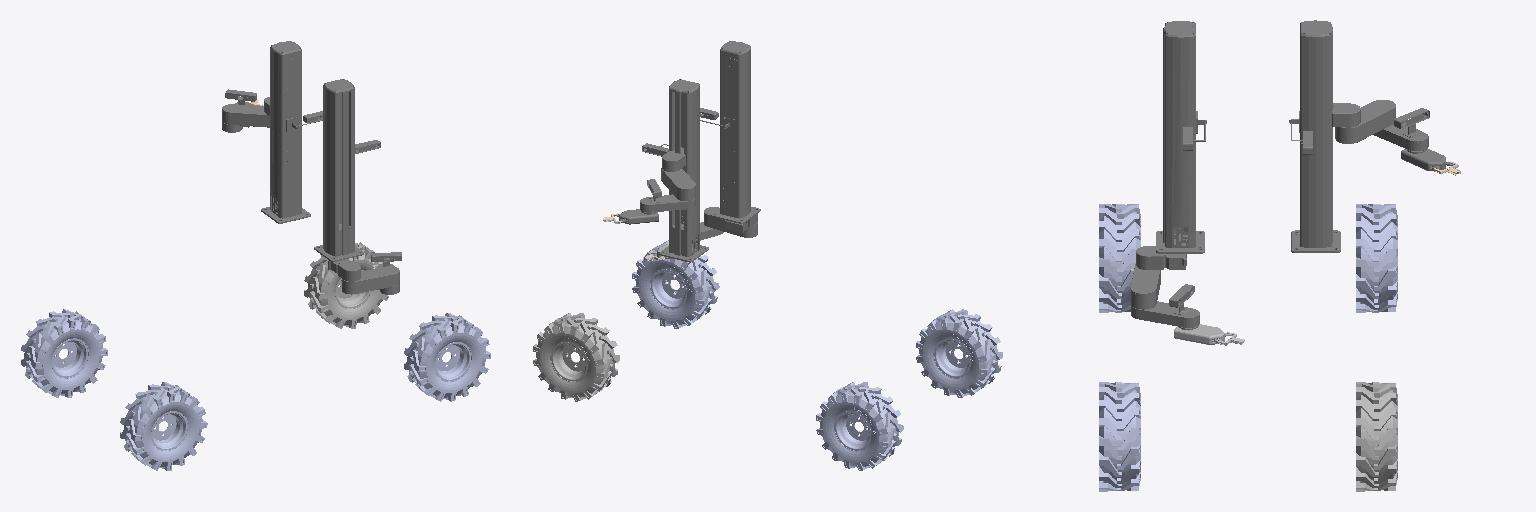
--- Render facts (derived) ---
3 views of the same robot in one strip: view 1: azimuth 30°, elevation 25°; view 2: azimuth 150°, elevation 25°; view 3: azimuth 270°, elevation 25° (orthographic).
Robot: grape_harvester — 19 links, 18 joints (9 revolute, 1 continuous, 6 prismatic, 2 fixed); root link base_link; default pose: joints at zero except 1 at the middle of their limits (r_arm_base_r_arm_link_1 = 0.5).
Links seen in each view (by area): view 1: r_arm_base, l_arm_base, r_wheel_back, r_wheel_front, l_wheel_back, l_wheel_front, r_arm_link_2, l_arm_link_2, r_arm_link_1; view 2: r_arm_base, l_wheel_back, r_wheel_back, l_wheel_front, r_wheel_front, l_arm_base, l_arm_link_3, l_arm_link_2, r_arm_link_2; view 3: r_arm_base, l_arm_base, r_wheel_front, l_wheel_front, l_wheel_back, r_wheel_back, r_arm_link_3, l_arm_link_2, l_arm_link_3, r_arm_link_2, r_arm_link_1, r_arm_gripper_base (+2 smaller).
Link boxes in pixels (x1,y1,x2,y2): r_arm_base: (314, 79, 380, 261); l_arm_base: (261, 41, 322, 223); r_wheel_back: (120, 382, 207, 470); r_wheel_front: (404, 313, 490, 401); l_wheel_back: (21, 309, 107, 397); l_wheel_front: (304, 242, 388, 328); r_arm_link_2: (342, 266, 399, 294); l_arm_link_2: (222, 104, 269, 127); r_arm_link_1: (328, 259, 360, 281); r_arm_base: (700, 41, 760, 223); l_wheel_back: (816, 382, 903, 470); r_wheel_back: (916, 309, 1002, 397); l_wheel_front: (533, 313, 619, 401); r_wheel_front: (632, 240, 719, 328); l_arm_base: (642, 79, 708, 262); l_arm_link_3: (640, 179, 695, 213); l_arm_link_2: (661, 168, 695, 200); r_arm_link_2: (704, 207, 757, 237); r_arm_base: (1156, 21, 1206, 253); l_arm_base: (1289, 20, 1340, 252); r_wheel_front: (1099, 382, 1140, 491); l_wheel_front: (1356, 382, 1397, 491); l_wheel_back: (1356, 204, 1397, 312); r_wheel_back: (1099, 204, 1140, 312); r_arm_link_3: (1131, 284, 1199, 329); l_arm_link_2: (1335, 100, 1395, 143); l_arm_link_3: (1373, 108, 1429, 152); r_arm_link_2: (1131, 264, 1160, 309); r_arm_link_1: (1136, 246, 1186, 269); r_arm_gripper_base: (1174, 309, 1232, 344).
Bounding box of the posed robot: 2.16 × 1.47 × 1.82 m (x, y, z).
Meshes: 19 distinct files referenced, 18 mesh visuals loaded (18 binary STL); not drawn: 1 (reference not matched to a file when rendering).

robot.urdf — grape_harvester:
<?xml version="1.0" encoding="utf-8"?>
<!-- This URDF was automatically created by SolidWorks to URDF Exporter! Originally created by Stephen Brawner ([email redacted]) 
     Commit Version: 1.6.0-1-g15f4949  Build Version: 1.6.7594.29634
     For more information, please see http://wiki.ros.org/sw_urdf_exporter -->
<robot
  name="grape_harvester">
  <link
    name="base_link">
    <inertial>
      <origin
        xyz="0.0967240490462767 -6.50785287935007E-06 0.570595021546874"
        rpy="0 0 0" />
      <mass
        value="732.561419245809" />
      <inertia
        ixx="55.0439847447433"
        ixy="0.00105467372527832"
        ixz="-13.2136142377722"
        iyy="215.138264753584"
        iyz="0.00166435387234711"
        izz="233.631575009062" />
    </inertial>
    <visual>
      <origin
        xyz="0 0 0"
        rpy="0 0 0" />
      <geometry>
        <mesh
          filename="package://grape_harvester/meshes/base_link.STL" />
      </geometry>
      <material
        name="">
        <color
          rgba="0.847058823529412 0.847058823529412 0.847058823529412 1" />
      </material>
    </visual>
    <collision>
      <origin
        xyz="0 0 0"
        rpy="0 0 0" />
      <geometry>
        <mesh
          filename="package://grape_harvester/meshes/base_link.STL" />
      </geometry>
    </collision>
  </link>
  <link
    name="l_wheel_front">
    <inertial>
      <origin
        xyz="-2.55500666828112E-05 -0.00431559968288031 2.73318019216873E-05"
        rpy="0 0 0" />
      <mass
        value="15.911327710551" />
      <inertia
        ixx="0.256653495251073"
        ixy="3.31407246755762E-05"
        ixz="3.06050778192681E-05"
        iyy="0.446525377478014"
        iyz="-3.54358257007552E-05"
        izz="0.256649431563068" />
    </inertial>
    <visual>
      <origin
        xyz="0 0 0"
        rpy="0 0 0" />
      <geometry>
        <mesh
          filename="package://grape_harvester/meshes/l_wheel_front.STL" />
      </geometry>
      <material
        name="">
        <color
          rgba="0.764705882352941 0.764705882352941 0.764705882352941 1" />
      </material>
    </visual>
    <collision>
      <origin
        xyz="0 0 0"
        rpy="0 0 0" />
      <geometry>
        <mesh
          filename="package://grape_harvester/meshes/l_wheel_front.STL" />
      </geometry>
    </collision>
  </link>
  <joint
    name="base_l_wheel_front"
    type="continuous">
    <origin
      xyz="0.860000000000001 0.52594220962433 0.2225"
      rpy="0 0 0" />
    <parent
      link="base_link" />
    <child
      link="l_wheel_front" />
    <axis
      xyz="0 -1 0" />
    <limit
      lower="-1000000"
      upper="1000000"
      effort="500000"
      velocity="1000000" />
  </joint>
  <link
    name="r_wheel_front">
    <inertial>
      <origin
        xyz="-2.55500666829223E-05 0.00262660994145059 2.73318019217497E-05"
        rpy="0 0 0" />
      <mass
        value="15.9113277105509" />
      <inertia
        ixx="0.256653495251073"
        ixy="3.31407246756976E-05"
        ixz="3.06050778195966E-05"
        iyy="0.446525377478014"
        iyz="-3.5435825700834E-05"
        izz="0.256649431563068" />
    </inertial>
    <visual>
      <origin
        xyz="0 0 0"
        rpy="0 0 0" />
      <geometry>
        <mesh
          filename="package://grape_harvester/meshes/r_wheel_front.STL" />
      </geometry>
      <material
        name="">
        <color
          rgba="0.792156862745098 0.819607843137255 0.933333333333333 1" />
      </material>
    </visual>
    <collision>
      <origin
        xyz="0 0 0"
        rpy="0 0 0" />
      <geometry>
        <mesh
          filename="package://grape_harvester/meshes/r_wheel_front.STL" />
      </geometry>
    </collision>
  </link>
  <joint
    name="base_r_wheel_front"
    type="revolute">
    <origin
      xyz="0.860000000000001 -0.524999999999999 0.2225"
      rpy="0 0 0" />
    <parent
      link="base_link" />
    <child
      link="r_wheel_front" />
    <axis
      xyz="0 1 0" />
    <limit
      lower="-1000000"
      upper="1000000"
      effort="50000"
      velocity="50000" />
  </joint>
  <link
    name="l_wheel_back">
    <inertial>
      <origin
        xyz="-2.55500666831443E-05 -0.00337339005854942 2.73318019219093E-05"
        rpy="0 0 0" />
      <mass
        value="15.911327710551" />
      <inertia
        ixx="0.256653495251073"
        ixy="3.31407246756729E-05"
        ixz="3.06050778194416E-05"
        iyy="0.446525377478015"
        iyz="-3.54358257008432E-05"
        izz="0.256649431563068" />
    </inertial>
    <visual>
      <origin
        xyz="0 0 0"
        rpy="0 0 0" />
      <geometry>
        <mesh
          filename="package://grape_harvester/meshes/l_wheel_back.STL" />
      </geometry>
      <material
        name="">
        <color
          rgba="0.792156862745098 0.819607843137255 0.933333333333333 1" />
      </material>
    </visual>
    <collision>
      <origin
        xyz="0 0 0"
        rpy="0 0 0" />
      <geometry>
        <mesh
          filename="package://grape_harvester/meshes/l_wheel_back.STL" />
      </geometry>
    </collision>
  </link>
  <joint
    name="base_l_wheel_back"
    type="revolute">
    <origin
      xyz="-0.86 0.525 0.2225"
      rpy="0 0 0" />
    <parent
      link="base_link" />
    <child
      link="l_wheel_back" />
    <axis
      xyz="0 -1 0" />
    <limit
      lower="-1000000"
      upper="1000000"
      effort="50000"
      velocity="50000" />
  </joint>
  <link
    name="r_wheel_back">
    <inertial>
      <origin
        xyz="-2.55500666828112E-05 0.0026266099414507 2.73318019219232E-05"
        rpy="0 0 0" />
      <mass
        value="15.911327710551" />
      <inertia
        ixx="0.256653495251073"
        ixy="3.31407246756884E-05"
        ixz="3.06050778196904E-05"
        iyy="0.446525377478014"
        iyz="-3.54358257007756E-05"
        izz="0.256649431563068" />
    </inertial>
    <visual>
      <origin
        xyz="0 0 0"
        rpy="0 0 0" />
      <geometry>
        <mesh
          filename="package://grape_harvester/meshes/r_wheel_back.STL" />
      </geometry>
      <material
        name="">
        <color
          rgba="0.792156862745098 0.819607843137255 0.933333333333333 1" />
      </material>
    </visual>
    <collision>
      <origin
        xyz="0 0 0"
        rpy="0 0 0" />
      <geometry>
        <mesh
          filename="package://grape_harvester/meshes/r_wheel_back.STL" />
      </geometry>
    </collision>
  </link>
  <joint
    name="base_r_wheel_back"
    type="revolute">
    <origin
      xyz="-0.86 -0.524999999999999 0.2225"
      rpy="0 0 0" />
    <parent
      link="base_link" />
    <child
      link="r_wheel_back" />
    <axis
      xyz="0 1 0" />
    <limit
      lower="-1000000"
      upper="1000000"
      effort="50000"
      velocity="50000" />
  </joint>
  <link
    name="l_arm_base">
    <inertial>
      <origin
        xyz="0.0024968 -0.015377 0.42921"
        rpy="0 0 0" />
      <mass
        value="3.3953" />
      <inertia
        ixx="0.20912"
        ixy="-7.5254E-05"
        ixz="0.0010211"
        iyy="0.2113"
        iyz="-0.00038185"
        izz="0.015276" />
    </inertial>
    <visual>
      <origin
        xyz="0 0 0"
        rpy="0 0 0" />
      <geometry>
        <mesh
          filename="package://grape_harvester/meshes/l_arm_base.STL" />
      </geometry>
      <material
        name="">
        <color
          rgba="0.56471 0.56471 0.56471 1" />
      </material>
    </visual>
    <collision>
      <origin
        xyz="0 0 0"
        rpy="0 0 0" />
      <geometry>
        <mesh
          filename="package://grape_harvester/meshes/l_arm_base.STL" />
      </geometry>
    </collision>
  </link>
  <joint
    name="base_l_arm_base"
    type="fixed">
    <origin
      xyz="0.345503212092889 0.275067184842277 0.8625"
      rpy="0 0 0" />
    <parent
      link="base_link" />
    <child
      link="l_arm_base" />
    <axis
      xyz="0 0 0" />
  </joint>
  <link
    name="l_arm_link_1">
    <inertial>
      <origin
        xyz="0.000125636870732804 0.0804188199429272 -0.0372240719211019"
        rpy="0 0 0" />
      <mass
        value="0.993769615600529" />
      <inertia
        ixx="0.0034290734895918"
        ixy="1.44752336404463E-05"
        ixz="2.09107970542603E-06"
        iyy="0.000950241498545379"
        iyz="7.33029796466367E-05"
        izz="0.0039252957485201" />
    </inertial>
    <visual>
      <origin
        xyz="0 0 0"
        rpy="0 0 0" />
      <geometry>
        <mesh
          filename="package://grape_harvester/meshes/l_arm_link_1.STL" />
      </geometry>
      <material
        name="">
        <color
          rgba="0.564705882352941 0.564705882352941 0.564705882352941 1" />
      </material>
    </visual>
    <collision>
      <origin
        xyz="0 0 0"
        rpy="0 0 0" />
      <geometry>
        <mesh
          filename="package://grape_harvester/meshes/l_arm_link_1.STL" />
      </geometry>
    </collision>
  </link>
  <joint
    name="l_arm_base_l_arm_link1"
    type="prismatic">
    <origin
      xyz="0 0 0.593759108516829"
      rpy="0 0 0" />
    <parent
      link="l_arm_base" />
    <child
      link="l_arm_link_1" />
    <axis
      xyz="0 0 -1" />
    <limit
      lower="-0.2"
      upper="0.2"
      effort="300"
      velocity="3" />
  </joint>
  <link
    name="l_arm_link_2">
    <inertial>
      <origin
        xyz="-0.0854570113219302 0.0709105321317886 -0.0984483167347361"
        rpy="0 0 0" />
      <mass
        value="2.16979338726156" />
      <inertia
        ixx="0.00866799275524474"
        ixy="0.00727661797303508"
        ixz="-7.28447678409945E-05"
        iyy="0.0113873692649047"
        iyz="6.03025196983541E-05"
        izz="0.0186444325786857" />
    </inertial>
    <visual>
      <origin
        xyz="0 0 0"
        rpy="0 0 0" />
      <geometry>
        <mesh
          filename="package://grape_harvester/meshes/l_arm_link_2.STL" />
      </geometry>
      <material
        name="">
        <color
          rgba="0.564705882352941 0.564705882352941 0.564705882352941 1" />
      </material>
    </visual>
    <collision>
      <origin
        xyz="0 0 0"
        rpy="0 0 0" />
      <geometry>
        <mesh
          filename="package://grape_harvester/meshes/l_arm_link_2.STL" />
      </geometry>
    </collision>
  </link>
  <joint
    name="l_arm_link_1_l_arm_link_2"
    type="revolute">
    <origin
      xyz="-2.38538024483481E-05 0.131932815157645 -0.00200000000005285"
      rpy="0 0 0" />
    <parent
      link="l_arm_link_1" />
    <child
      link="l_arm_link_2" />
    <axis
      xyz="0 0 1" />
    <limit
      lower="-3.14"
      upper="3.14"
      effort="300"
      velocity="3" />
  </joint>
  <link
    name="l_arm_link_3">
    <inertial>
      <origin
        xyz="0.0699396065905296 -0.0737302141498409 -0.0926276756075906"
        rpy="0 0 0" />
      <mass
        value="1.46789098760177" />
      <inertia
        ixx="0.00546308340369262"
        ixy="0.00380182327080884"
        ixz="1.85741775412588E-05"
        iyy="0.00506145717588313"
        iyz="-1.95812221911357E-05"
        izz="0.0100016298513614" />
    </inertial>
    <visual>
      <origin
        xyz="0 0 0"
        rpy="0 0 0" />
      <geometry>
        <mesh
          filename="package://grape_harvester/meshes/l_arm_link_3.STL" />
      </geometry>
      <material
        name="">
        <color
          rgba="0.564705882352941 0.564705882352941 0.564705882352941 1" />
      </material>
    </visual>
    <collision>
      <origin
        xyz="0 0 0"
        rpy="0 0 0" />
      <geometry>
        <mesh
          filename="package://grape_harvester/meshes/l_arm_link_3.STL" />
      </geometry>
    </collision>
  </link>
  <joint
    name="l_arm_link_2_l_arm_link_3"
    type="revolute">
    <origin
      xyz="-0.16927333898573 0.140522370848582 -0.0629999999999309"
      rpy="0 0 1.5707963267949" />
    <parent
      link="l_arm_link_2" />
    <child
      link="l_arm_link_3" />
    <axis
      xyz="0 0 1" />
    <limit
      lower="-3.14"
      upper="3.14"
      effort="300"
      velocity="3" />
  </joint>
  <link
    name="gripper_base">
    <inertial>
      <origin
        xyz="0.0417656890379304 -0.0440296352379506 -0.0818516657835077"
        rpy="0 0 0" />
      <mass
        value="0.109749472914355" />
      <inertia
        ixx="0.000158320167909366"
        ixy="4.98951547405743E-05"
        ixz="4.08521109394338E-06"
        iyy="0.0001530507624686"
        iyz="-4.3048628224785E-06"
        izz="0.000264761402018064" />
    </inertial>
    <visual>
      <origin
        xyz="0 0 0"
        rpy="0 0 0" />
      <geometry>
        <mesh
          filename="package://grape_harvester/meshes/gripper_base.STL" />
      </geometry>
      <material
        name="">
        <color
          rgba="0.564705882352941 0.564705882352941 0.564705882352941 1" />
      </material>
    </visual>
    <collision>
      <origin
        xyz="0 0 0"
        rpy="0 0 0" />
      <geometry>
        <mesh
          filename="package://grape_harvester/meshes/gripper_base.STL" />
      </geometry>
    </collision>
  </link>
  <joint
    name="l_arm_link3_gripper_base"
    type="revolute">
    <origin
      xyz="0.137641878611459 -0.145102423315937 -0.0720000000000072"
      rpy="0 0 0" />
    <parent
      link="l_arm_link_3" />
    <child
      link="gripper_base" />
    <axis
      xyz="0 0 1" />
    <limit
      lower="-3.14"
      upper="3.14"
      effort="300"
      velocity="3" />
  </joint>
  <link
    name="r_finger_l_gripper">
    <inertial>
      <origin
        xyz="-0.0253969129652248 0.0241461215019181 0.000850862451540646"
        rpy="0 0 0" />
      <mass
        value="0.0110592335472186" />
      <inertia
        ixx="4.37396734706745E-06"
        ixy="2.16963471246923E-06"
        ixz="4.42617514527407E-10"
        iyy="2.62421421445249E-06"
        iyz="9.63789542828289E-15"
        izz="6.67238241923964E-06" />
    </inertial>
    <visual>
      <origin
        xyz="0 0 0"
        rpy="0 0 0" />
      <geometry>
        <mesh
          filename="package://grape_harvester/meshes/r_finger_l_gripper.STL" />
      </geometry>
      <material
        name="">
        <color
          rgba="1 0.898039215686275 0.8 1" />
      </material>
    </visual>
    <collision>
      <origin
        xyz="0 0 0"
        rpy="0 0 0" />
      <geometry>
        <mesh
          filename="package://grape_harvester/meshes/r_finger_l_gripper.STL" />
      </geometry>
    </collision>
  </link>
  <joint
    name="l_gripper_base_r_finger"
    type="prismatic">
    <origin
      xyz="0.151543661927759 -0.159757719126552 -0.0833093207226201"
      rpy="0 0 0.759018095073969" />
    <parent
      link="gripper_base" />
    <child
      link="r_finger_l_gripper" />
    <axis
      xyz="-1 0 0" />
    <limit
      lower="-0.1"
      upper="0.1"
      effort="300"
      velocity="3" />
  </joint>
  <link
    name="l_finger_l_gripper">
    <inertial>
      <origin
        xyz="0.0201917326469194 0.0171855945703733 0.000409320456968953"
        rpy="0 0 0" />
      <mass
        value="0.0155284591982907" />
      <inertia
        ixx="5.33107508010463E-06"
        ixy="-2.1696347035305E-06"
        ixz="-5.28113216851625E-14"
        iyy="2.72756181550335E-06"
        iyz="1.13840520310012E-12"
        izz="7.66157734339293E-06" />
    </inertial>
    <visual>
      <origin
        xyz="0 0 0"
        rpy="0 0 0" />
      <geometry>
        <mesh
          filename="package://grape_harvester/meshes/l_finger_l_gripper.STL" />
      </geometry>
      <material
        name="">
        <color
          rgba="0.847058823529412 0.847058823529412 0.847058823529412 1" />
      </material>
    </visual>
    <collision>
      <origin
        xyz="0 0 0"
        rpy="0 0 0" />
      <geometry>
        <mesh
          filename="package://grape_harvester/meshes/l_finger_l_gripper.STL" />
      </geometry>
    </collision>
  </link>
  <joint
    name="l_gripper_base_l_finger"
    type="prismatic">
    <origin
      xyz="0.151543661927759 -0.159757719126552 -0.0833093207226201"
      rpy="0 0 0.759018095073969" />
    <parent
      link="gripper_base" />
    <child
      link="l_finger_l_gripper" />
    <axis
      xyz="-1 0 0" />
    <limit
      lower="-0.1"
      upper="0.1"
      effort="300"
      velocity="3" />
  </joint>
  <link
    name="r_arm_base">
    <inertial>
      <origin
        xyz="0.0016045 0.015369 0.42939"
        rpy="0 0 0" />
      <mass
        value="3.3946" />
      <inertia
        ixx="0.20912"
        ixy="-2.7958E-05"
        ixz="-0.0010211"
        iyy="0.2113"
        iyz="0.00038776"
        izz="0.015276" />
    </inertial>
    <visual>
      <origin
        xyz="0 0 0"
        rpy="0 0 0" />
      <geometry>
        <mesh
          filename="package://grape_harvester/meshes/r_arm_base.STL" />
      </geometry>
      <material
        name="">
        <color
          rgba="0.56471 0.56471 0.56471 1" />
      </material>
    </visual>
    <collision>
      <origin
        xyz="0 0 0"
        rpy="0 0 0" />
      <geometry>
        <mesh
          filename="package://grape_harvester/meshes/r_arm_base.STL" />
      </geometry>
    </collision>
  </link>
  <joint
    name="base_r_arm_base"
    type="fixed">
    <origin
      xyz="0.349976146197634 -0.275067184842277 0.8625"
      rpy="0 0 0" />
    <parent
      link="base_link" />
    <child
      link="r_arm_base" />
    <axis
      xyz="0 0 0" />
  </joint>
  <link
    name="r_arm_link_1">
    <inertial>
      <origin
        xyz="-0.000125636870781154 -0.0804188199429695 -0.0372240719211019"
        rpy="0 0 0" />
      <mass
        value="0.99376961560053" />
      <inertia
        ixx="0.00342907348959179"
        ixy="1.44752336404472E-05"
        ixz="-2.09107970542582E-06"
        iyy="0.000950241498545383"
        iyz="-7.33029796466401E-05"
        izz="0.00392529574852009" />
    </inertial>
    <visual>
      <origin
        xyz="0 0 0"
        rpy="0 0 0" />
      <geometry>
        <mesh
          filename="package://grape_harvester/meshes/r_arm_link_1.STL" />
      </geometry>
      <material
        name="">
        <color
          rgba="0.564705882352941 0.564705882352941 0.564705882352941 1" />
      </material>
    </visual>
    <collision>
      <origin
        xyz="0 0 0"
        rpy="0 0 0" />
      <geometry>
        <mesh
          filename="package://grape_harvester/meshes/r_arm_link_1.STL" />
      </geometry>
    </collision>
  </link>
  <joint
    name="r_arm_base_r_arm_link_1"
    type="prismatic">
    <origin
      xyz="0 0 0.455999999999899"
      rpy="0 0 0" />
    <parent
      link="r_arm_base" />
    <child
      link="r_arm_link_1" />
    <axis
      xyz="0 0 -1" />
    <limit
      lower="0.3"
      upper="0.7"
      effort="300"
      velocity="3" />
  </joint>
  <link
    name="r_arm_link_2">
    <inertial>
      <origin
        xyz="0.110638958296988 -0.00949870182453177 -0.0984483168531514"
        rpy="0 0 0" />
      <mass
        value="2.16979338725361" />
      <inertia
        ixx="0.00273445011587975"
        ixy="0.00126755844621284"
        ixz="9.42288684763653E-05"
        iyy="0.0173209120460984"
        iyz="-7.97968333694519E-06"
        izz="0.0186444327205125" />
    </inertial>
    <visual>
      <origin
        xyz="0 0 0"
        rpy="0 0 0" />
      <geometry>
        <mesh
          filename="package://grape_harvester/meshes/r_arm_link_2.STL" />
      </geometry>
      <material
        name="">
        <color
          rgba="0.564705882352941 0.564705882352941 0.564705882352941 1" />
      </material>
    </visual>
    <collision>
      <origin
        xyz="0 0 0"
        rpy="0 0 0" />
      <geometry>
        <mesh
          filename="package://grape_harvester/meshes/r_arm_link_2.STL" />
      </geometry>
    </collision>
  </link>
  <joint
    name="r_arm_link_1_r_arm_link_2"
    type="revolute">
    <origin
      xyz="2.38538023998869E-05 -0.131932815157687 -0.00200000000005285"
      rpy="0 0 0" />
    <parent
      link="r_arm_link_1" />
    <child
      link="r_arm_link_2" />
    <axis
      xyz="0 0 1" />
    <limit
      lower="-3.14"
      upper="3.14"
      effort="300"
      velocity="3" />
  </joint>
  <link
    name="r_arm_link_3">
    <inertial>
      <origin
        xyz="0.0431771728754073 0.0947109741374368 -0.0895746798248389"
        rpy="0 0 0" />
      <mass
        value="1.51944277714983" />
      <inertia
        ixx="0.00779168094949869"
        ixy="-0.00282823353959421"
        ixz="1.04013867884703E-05"
        iyy="0.00287734902626481"
        iyz="2.5071131850438E-05"
        izz="0.0101312773842739" />
    </inertial>
    <visual>
      <origin
        xyz="0 0 0"
        rpy="0 0 0" />
      <geometry>
        <mesh
          filename="package://grape_harvester/meshes/r_arm_link_3.STL" />
      </geometry>
      <material
        name="">
        <color
          rgba="0.564705882352941 0.564705882352941 0.564705882352941 1" />
      </material>
    </visual>
    <collision>
      <origin
        xyz="0 0 0"
        rpy="0 0 0" />
      <geometry>
        <mesh
          filename="package://grape_harvester/meshes/r_arm_link_3.STL" />
      </geometry>
    </collision>
  </link>
  <joint
    name="r_arm_link_2_r_arm_link_3"
    type="revolute">
    <origin
      xyz="0.219189537435978 -0.0188665492047488 -0.0629999999999324"
      rpy="0 0 0" />
    <parent
      link="r_arm_link_2" />
    <child
      link="r_arm_link_3" />
    <axis
      xyz="0 0 1" />
    <limit
      lower="-3.14"
      upper="3.14"
      effort="300"
      velocity="3" />
  </joint>
  <link
    name="r_arm_gripper_base">
    <inertial>
      <origin
        xyz="0.0521148210779367 -0.0240205898391851 -0.0822842118271686"
        rpy="0 0 0" />
      <mass
        value="0.149380329868679" />
      <inertia
        ixx="0.000127476928748419"
        ixy="3.79028930298665E-05"
        ixz="5.40933294687369E-06"
        iyy="0.000193341890041489"
        iyz="-2.46472178566827E-06"
        izz="0.000269777657282667" />
    </inertial>
    <visual>
      <origin
        xyz="0 0 0"
        rpy="0 0 0" />
      <geometry>
        <mesh
          filename="package://grape_harvester/meshes/r_arm_gripper_base.STL" />
      </geometry>
      <material
        name="">
        <color
          rgba="0.752941176470588 0.752941176470588 0.752941176470588 1" />
      </material>
    </visual>
    <collision>
      <origin
        xyz="0 0 0"
        rpy="0 0 0" />
      <geometry>
        <mesh
          filename="package://grape_harvester/meshes/r_arm_gripper_base.STL" />
      </geometry>
    </collision>
  </link>
  <joint
    name="r_arm_link_3_r_arm_gripper_base"
    type="revolute">
    <origin
      xyz="0.0829629163109964 0.181981192756639 -0.0719999999999965"
      rpy="0 0 1.5707963267949" />
    <parent
      link="r_arm_link_3" />
    <child
      link="r_arm_gripper_base" />
    <axis
      xyz="0 0 1" />
    <limit
      lower="-3.14"
      upper="3.14"
      effort="300"
      velocity="3" />
  </joint>
  <link
    name="r_gripper_l_finger">
    <inertial>
      <origin
        xyz="0.0201917327019903 0.0173408266589892 0.000100073144415291"
        rpy="0 0 0" />
      <mass
        value="0.0155284591580667" />
      <inertia
        ixx="5.33107508612748E-06"
        ixy="-2.16963471071172E-06"
        ixz="-5.78919974091421E-14"
        iyy="2.72756180168153E-06"
        iyz="1.13591600331937E-12"
        izz="7.66157733174381E-06" />
    </inertial>
    <visual>
      <origin
        xyz="0 0 0"
        rpy="0 0 0" />
      <geometry>
        <mesh
          filename="package://grape_harvester/meshes/r_gripper_l_finger.STL" />
      </geometry>
      <material
        name="">
        <color
          rgba="0.847058823529412 0.847058823529412 0.847058823529412 1" />
      </material>
    </visual>
    <collision>
      <origin
        xyz="0 0 0"
        rpy="0 0 0" />
      <geometry>
        <mesh
          filename="package://grape_harvester/meshes/r_gripper_l_finger.STL" />
      </geometry>
    </collision>
  </link>
  <joint
    name="r_gripper_base_l_finger"
    type="prismatic">
    <origin
      xyz="0.200502478521291 -0.0914065354437857 -0.0830000734394419"
      rpy="0 0 1.14305731087788" />
    <parent
      link="r_arm_gripper_base" />
    <child
      link="r_gripper_l_finger" />
    <axis
      xyz="-1 0 0" />
    <limit
      lower="0"
      upper="0.1"
      effort="300"
      velocity="3" />
  </joint>
  <link
    name="r_gripper_r_finger">
    <inertial>
      <origin
        xyz="-0.0195761331228345 0.0165363041413611 0.000399847238456763"
        rpy="0 0 0" />
      <mass
        value="0.0162893218523249" />
      <inertia
        ixx="5.48940286216819E-06"
        ixy="2.16963469343169E-06"
        ixz="4.42630322994913E-10"
        iyy="2.7499483324012E-06"
        iyz="-1.14140073653415E-12"
        izz="7.84217510614175E-06" />
    </inertial>
    <visual>
      <origin
        xyz="0 0 0"
        rpy="0 0 0" />
      <geometry>
        <mesh
          filename="package://grape_harvester/meshes/r_gripper_r_finger.STL" />
      </geometry>
      <material
        name="">
        <color
          rgba="0.847058823529412 0.847058823529412 0.847058823529412 1" />
      </material>
    </visual>
    <collision>
      <origin
        xyz="0 0 0"
        rpy="0 0 0" />
      <geometry>
        <mesh
          filename="package://grape_harvester/meshes/r_gripper_r_finger.STL" />
      </geometry>
    </collision>
  </link>
  <joint
    name="r_gripper_base_r_finger"
    type="prismatic">
    <origin
      xyz="0.200502478521291 -0.0914065354437857 -0.0830000734394419"
      rpy="0 0 1.14305731087788" />
    <parent
      link="r_arm_gripper_base" />
    <child
      link="r_gripper_r_finger" />
    <axis
      xyz="-1 0 0" />
    <limit
      lower="0"
      upper="0.1"
      effort="300"
      velocity="3" />
  </joint>
</robot>
